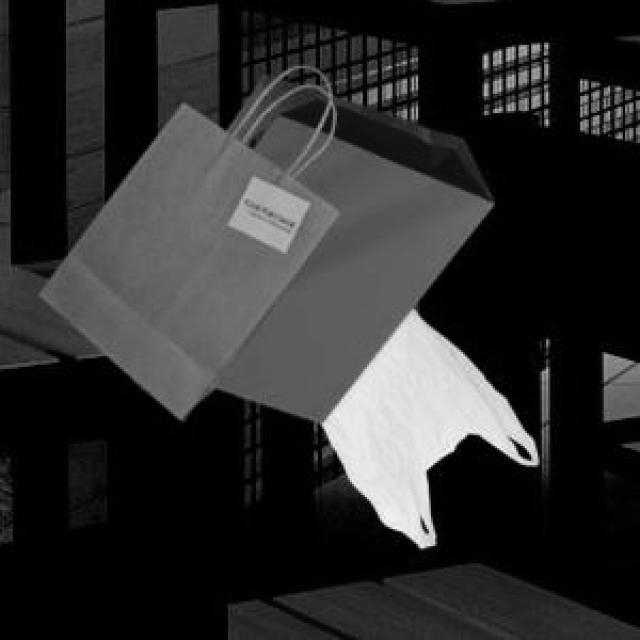paper: (36, 83, 335, 416), (211, 70, 489, 418)
